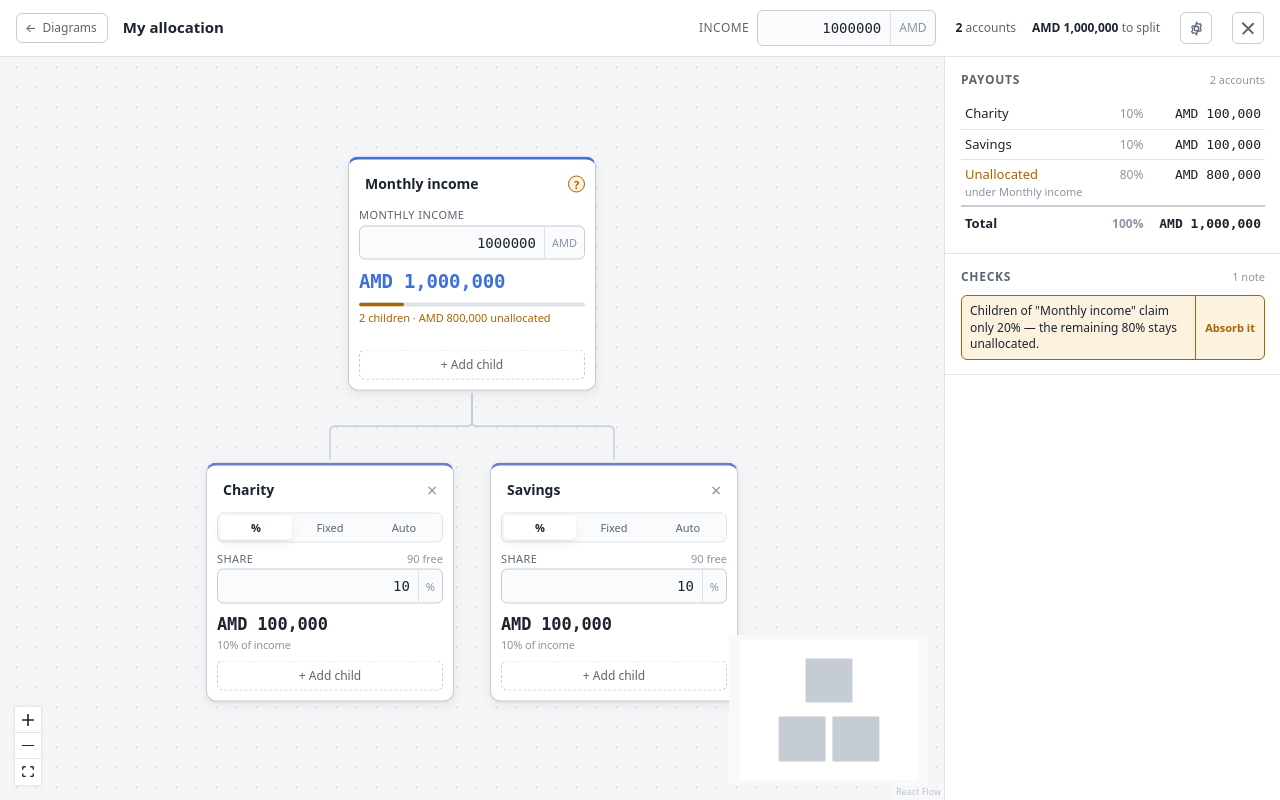
Test: the language toggle › formats money and issue text in the chosen language
expect the button "stays unallocated" is shown: met, box left=962, top=296, right=1189, bottom=359
Click the button named "Settings".
click(1196, 28)  # box left=1180, top=12, right=1212, bottom=44
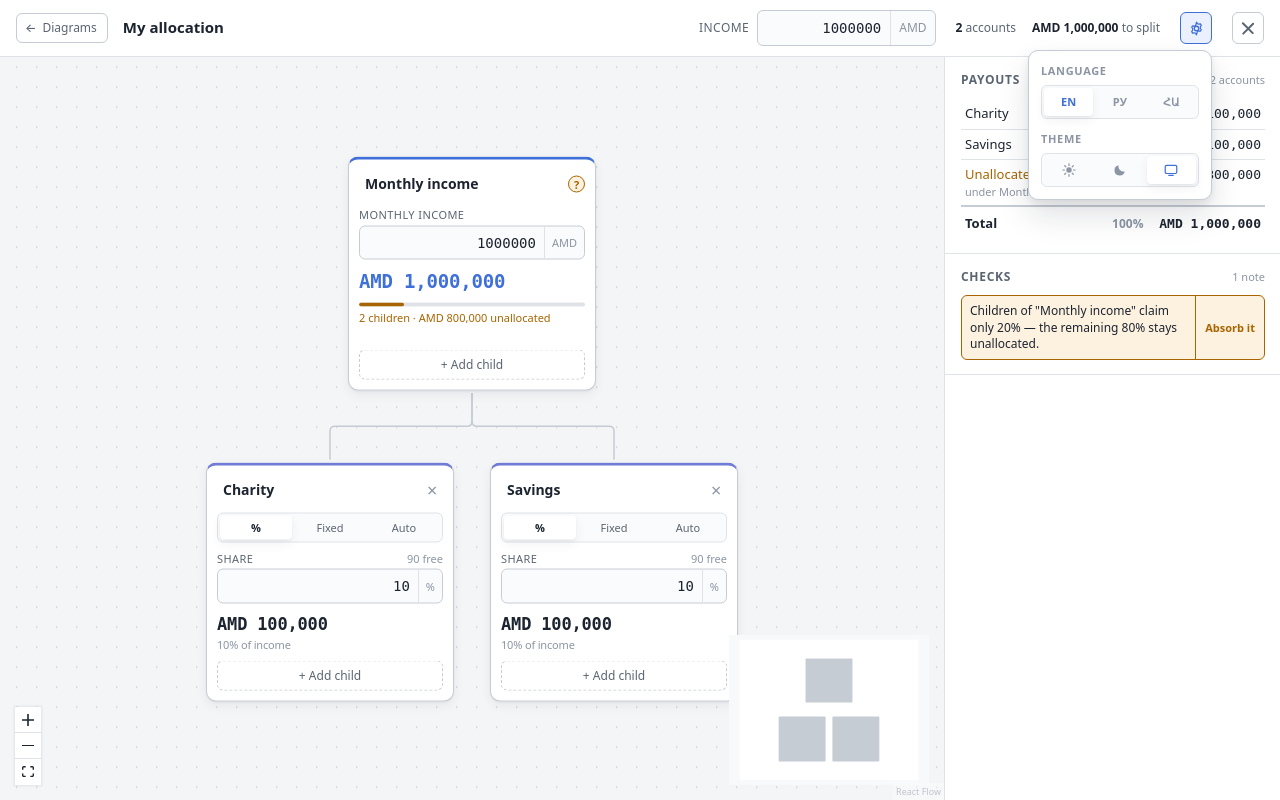
Click the button with aria-label "Русский".
click(1120, 102)  # box left=1095, top=88, right=1145, bottom=116
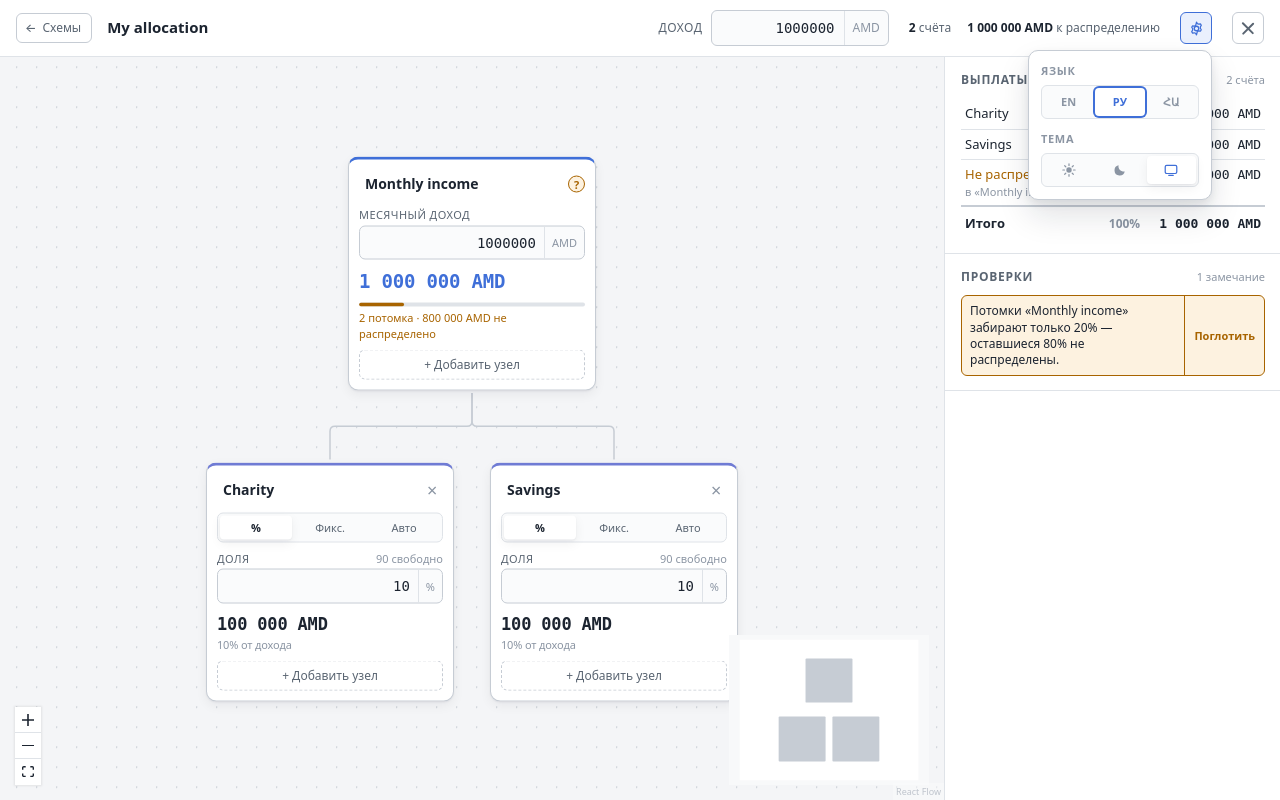
expect the button "не распределены" is shown: met, box left=962, top=296, right=1178, bottom=375
expect the text "100 000 AMD" is shown: met, box left=1144, top=99, right=1265, bottom=129
expect the text "100,000" is gone: met
